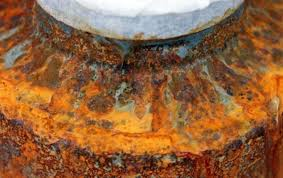rust: (9, 39, 283, 176), (191, 25, 282, 178), (1, 1, 53, 176)
